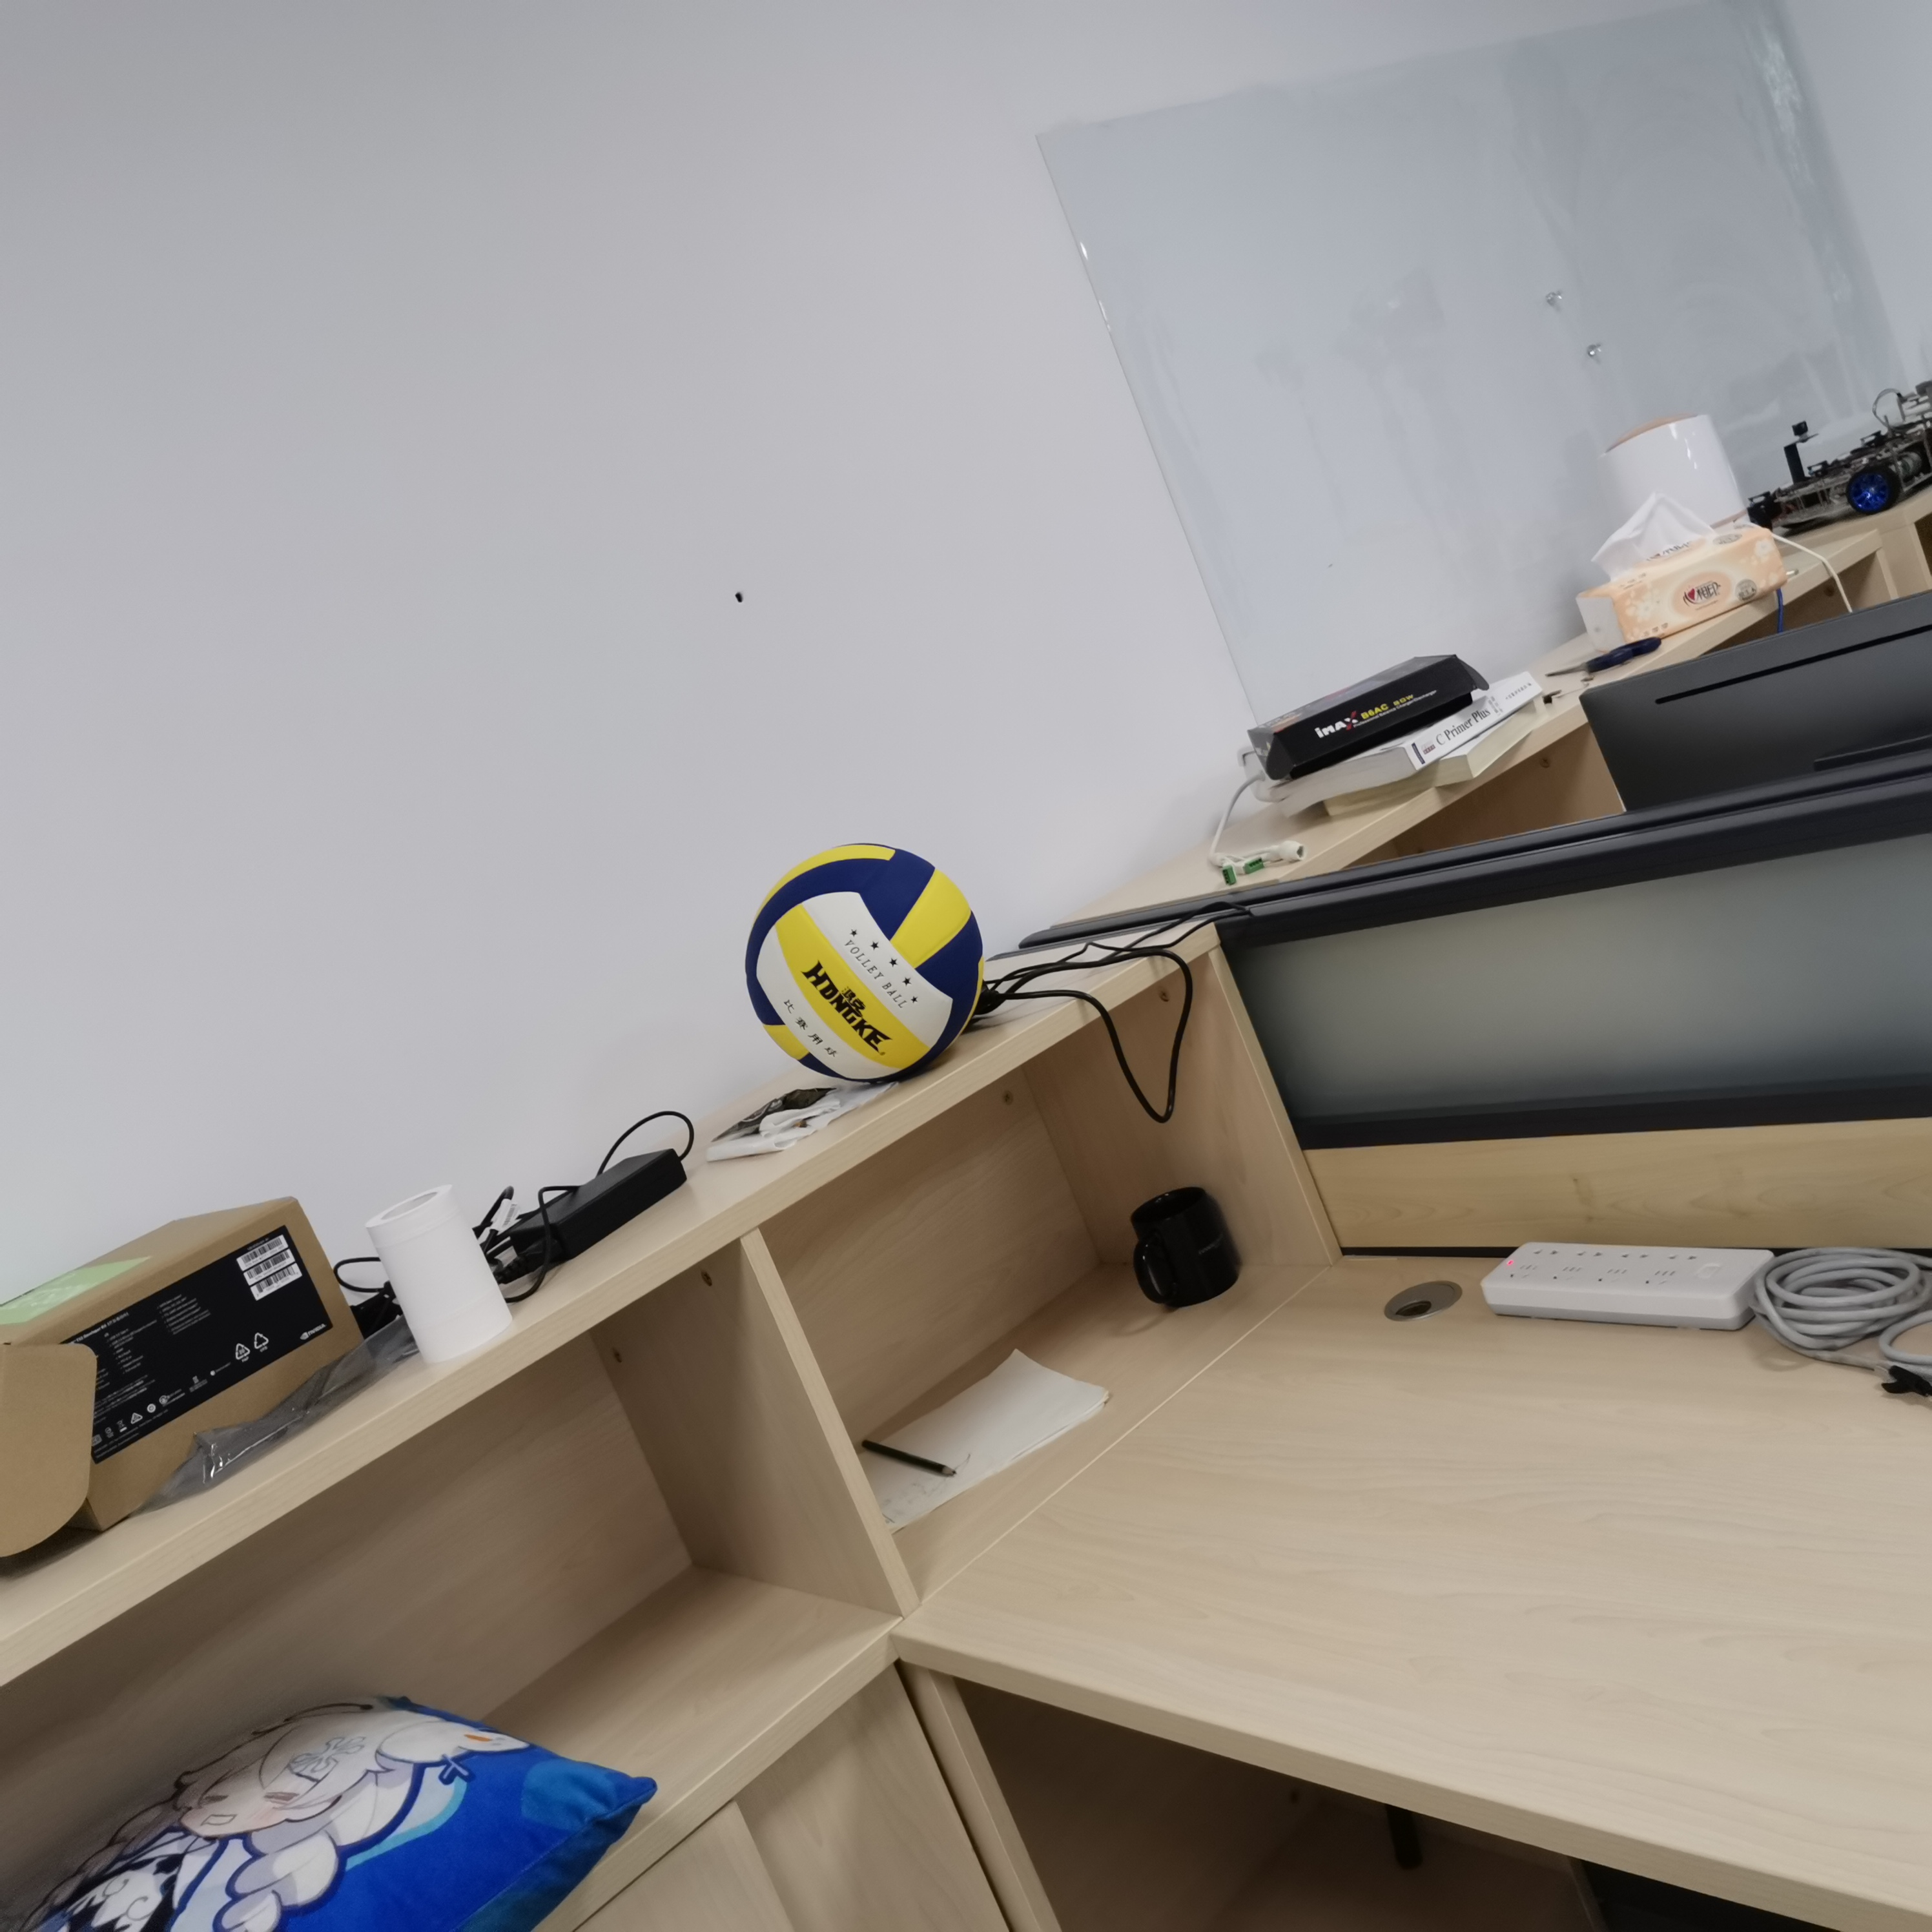volleyball: (745, 837, 985, 1086)
